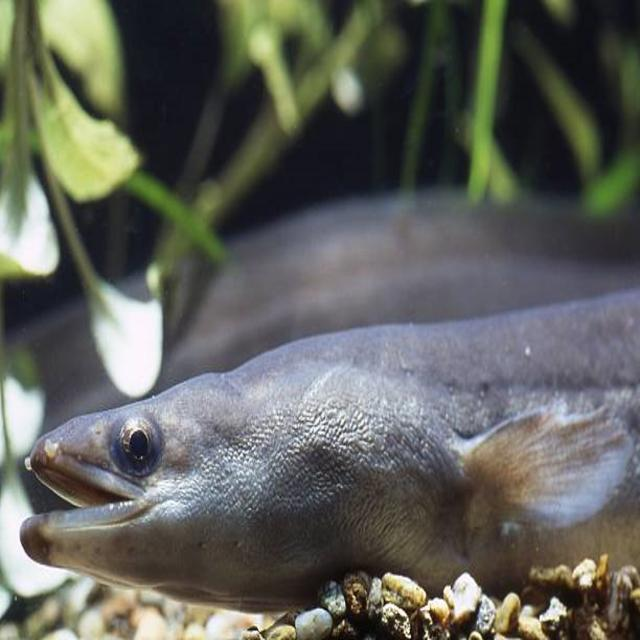Freshwater-Eel: (0, 236, 640, 640)
